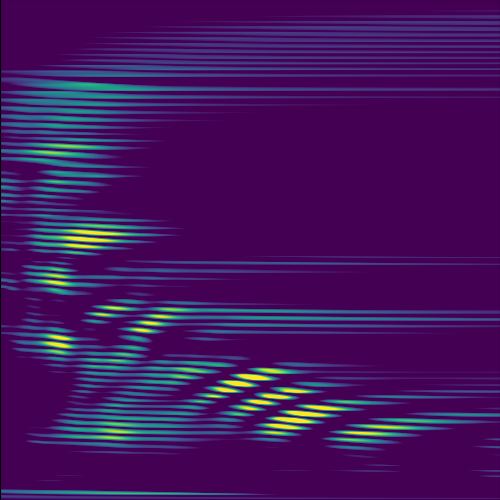semblance: (230, 375, 328, 423), (194, 362, 292, 407), (254, 397, 355, 439), (51, 218, 131, 254), (126, 303, 185, 338), (29, 140, 104, 162), (341, 418, 413, 439), (91, 293, 132, 326), (175, 360, 213, 379)
